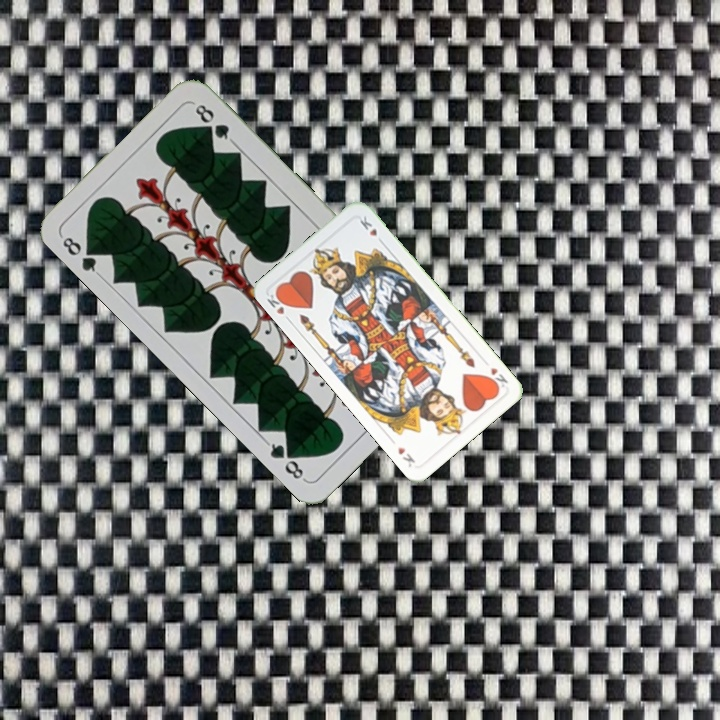G8: (58, 232, 103, 279)
HK: (262, 288, 294, 325), (487, 363, 511, 390)
